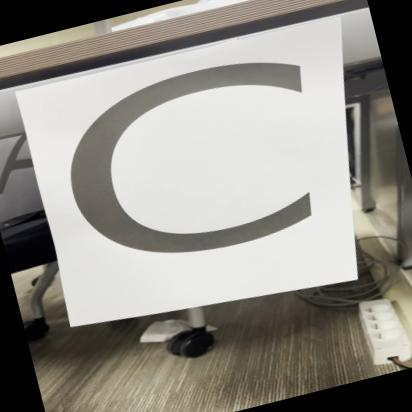seat: (17, 22, 375, 343)
